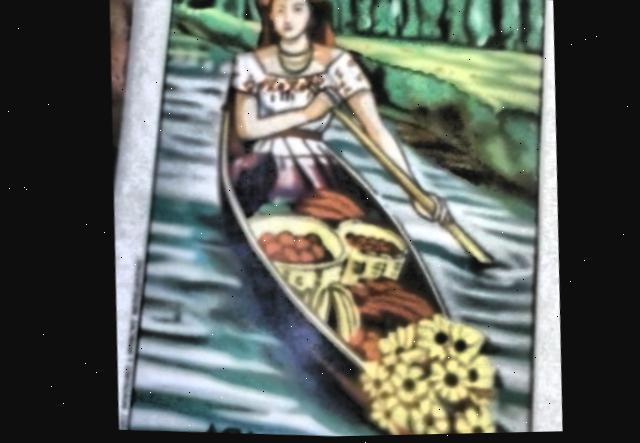La Chalupa: (122, 0, 543, 438)
